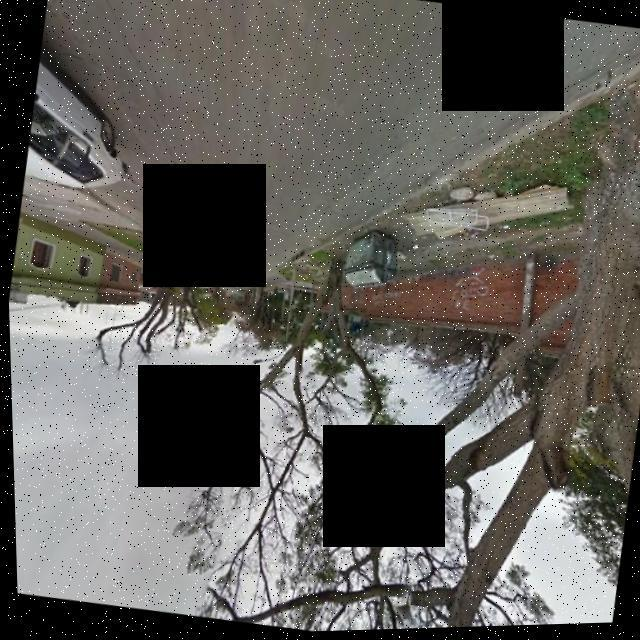bin: (329, 214, 410, 304)
